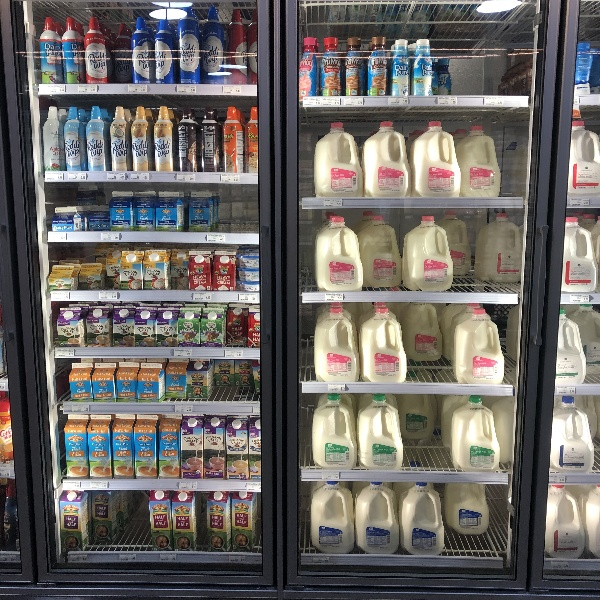void: (451, 24, 528, 95), (214, 186, 261, 232)
